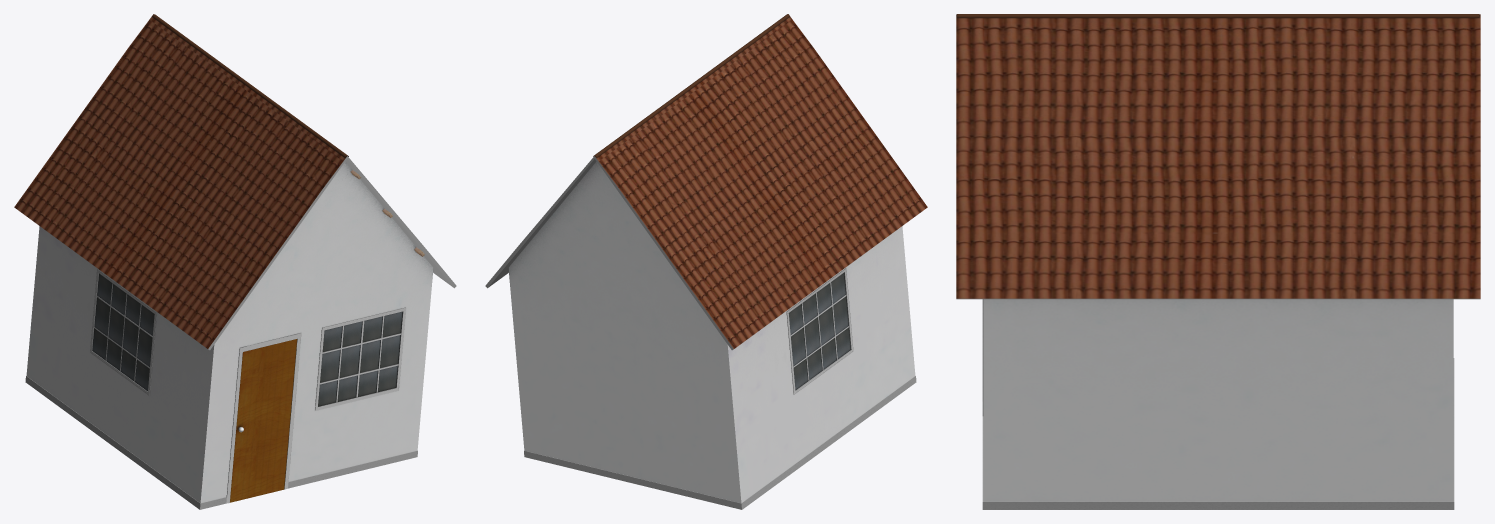
Rendered from house02.fbx.
3 renders of one model, left to right at view 1: azimuth 30°, elevation 25°; view 2: azimuth 150°, elevation 25°; view 3: azimuth 270°, elevation 25°, orthographic. The views are drawn at different scales.
Visible parts, largest first — view 1: Casa; view 2: Casa; view 3: Casa.
Boxes of the visible parts, x1,y1,x2,y2 form: Casa: (14, 14, 456, 509); Casa: (485, 14, 927, 509); Casa: (956, 14, 1480, 509).
Bounding box in the file's own units: 0.5952 × 0.7495 × 0.803.
Materials: 1 (1 with a texture image).
